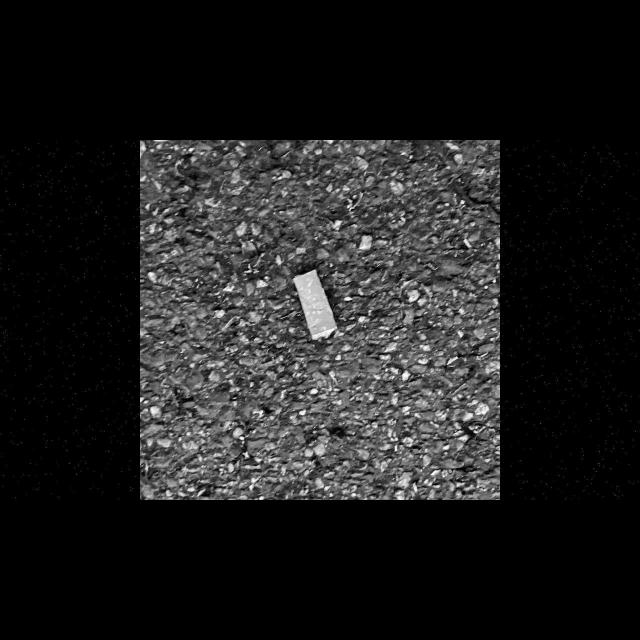cigarette: (292, 268, 337, 341)
